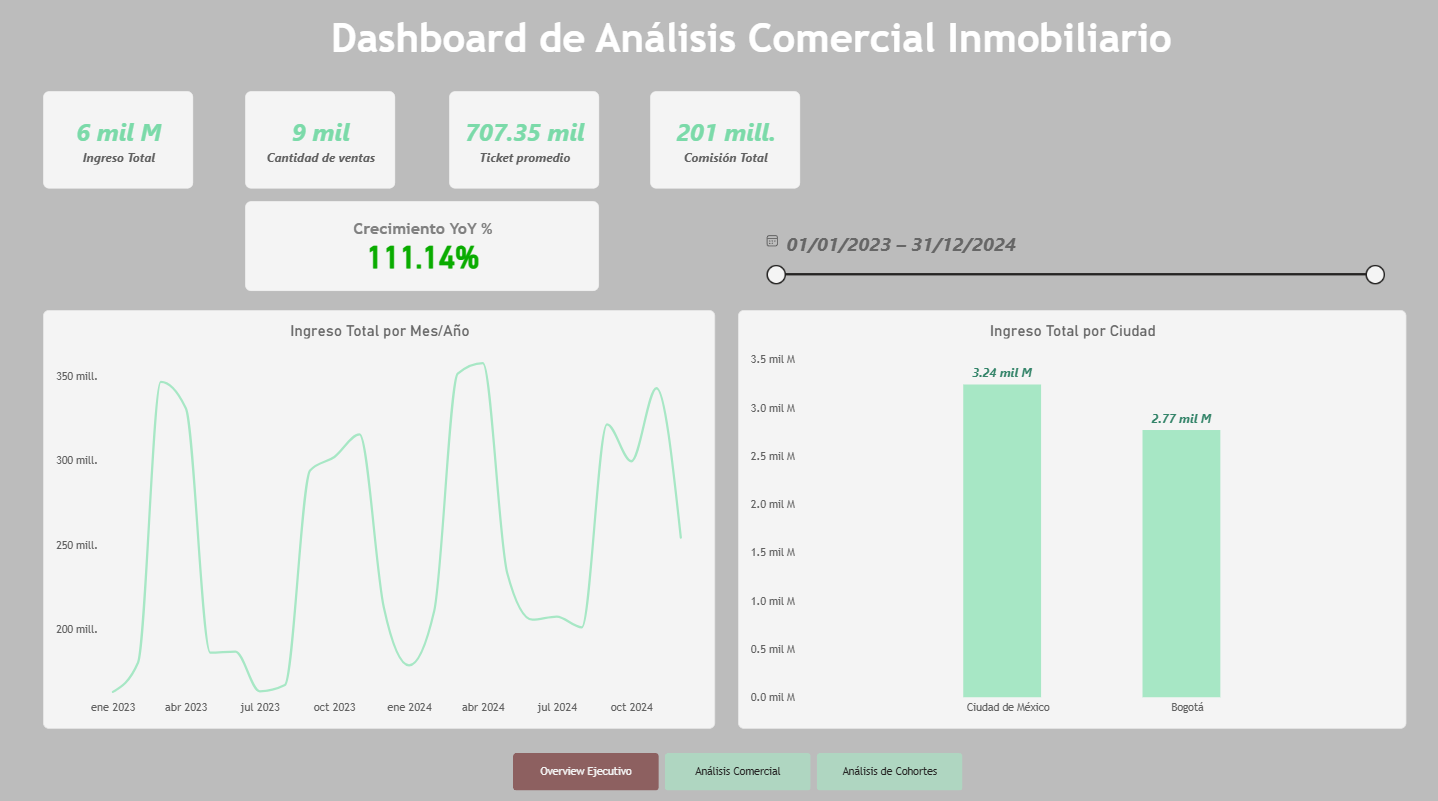

The dashboard page shown, as its layout file describes it:
{"tool":"powerbi","page":{"name":"Overview Ejecutivo","canvas":[1920,1080],"ordinal":0},"visuals":[{"type":"lineChart","title":"Ingreso Total por Mes/Año","fields":{"Category":["dim_fecha.Año-Mes"],"Y":["TB_Hecho_Ventas_Propiedades.Ingreso Total"]},"box":[62.2,423,894.3,557.1],"z":0},{"type":"clusteredColumnChart","title":"Ingreso Total por Ciudad","fields":{"Category":["TB_Hecho_Ventas_Propiedades.ciudad"],"Y":["TB_Hecho_Ventas_Propiedades.Ingreso Total"]},"box":[987,423,888.8,557.1],"z":1000},{"type":"textbox","box":[445.1,29.4,1143.9,92],"z":2000},{"type":"cardVisual","fields":{"Data":["TB_Hecho_Ventas_Propiedades.Ingreso Total"]},"box":[62.5,131.7,200,130],"z":3000},{"type":"cardVisual","fields":{"Data":["TB_Hecho_Ventas_Propiedades.Comisión Total"]},"box":[869.9,131.7,200,130],"z":4000},{"type":"cardVisual","fields":{"Data":["TB_Hecho_Ventas_Propiedades.Cantidad de ventas"]},"box":[331.2,131.7,200,130],"z":5000},{"type":"cardVisual","fields":{"Data":["TB_Hecho_Ventas_Propiedades.Ticket promedio"]},"box":[602.5,131.7,200,130],"z":6000},{"type":"slicer","fields":{"Values":["dim_fecha.Date"]},"box":[1013.2,313.8,836.3,94],"z":7000},{"type":"cardVisual","fields":{"Data":["TB_Hecho_Ventas_Propiedades.Crecimiento YoY %"]},"box":[331.7,277.8,471.4,120.3],"z":8000},{"type":"pageNavigator","box":[687,1011.8,600,50],"z":9000}]}

Visuals, with their boxes in screenshot pixels (x1, y1, x2, y2), scaled from the page's 1920x1080 canvas onto the 1438x801 screenshot:
"Ingreso Total por Mes/Año" lineChart: pyautogui.locateOnScreen(47, 314, 716, 727)
"Ingreso Total por Ciudad" clusteredColumnChart: pyautogui.locateOnScreen(739, 314, 1405, 727)
textbox: pyautogui.locateOnScreen(333, 22, 1190, 90)
cardVisual - TB_Hecho_Ventas_Propiedades.Ingreso Total: pyautogui.locateOnScreen(47, 98, 197, 194)
cardVisual - TB_Hecho_Ventas_Propiedades.Comisión Total: pyautogui.locateOnScreen(652, 98, 801, 194)
cardVisual - TB_Hecho_Ventas_Propiedades.Cantidad de ventas: pyautogui.locateOnScreen(248, 98, 398, 194)
cardVisual - TB_Hecho_Ventas_Propiedades.Ticket promedio: pyautogui.locateOnScreen(451, 98, 601, 194)
slicer - dim_fecha.Date: pyautogui.locateOnScreen(759, 233, 1385, 302)
cardVisual - TB_Hecho_Ventas_Propiedades.Crecimiento YoY %: pyautogui.locateOnScreen(248, 206, 601, 295)
pageNavigator: pyautogui.locateOnScreen(515, 750, 964, 788)
